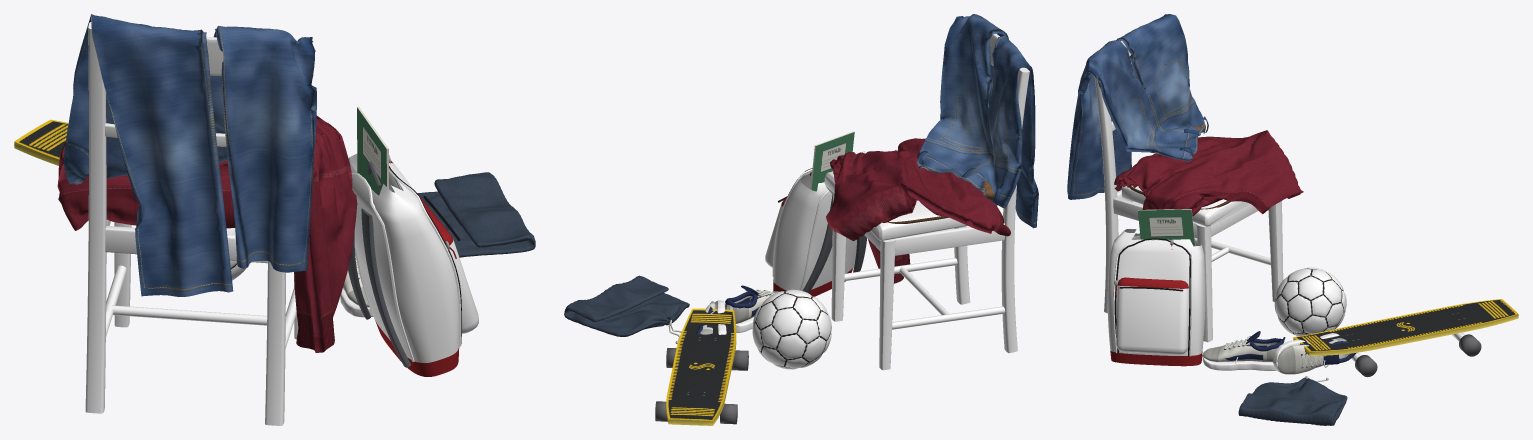
Rendered from room_chair.glb.
3 views of the same model, side by side, from view 1: azimuth 30°, elevation 25°; view 2: azimuth 150°, elevation 25°; view 3: azimuth 270°, elevation 25° (orthographic). The views are drawn at different scales.
Visible parts, largest first — view 1: F64_C3_Jeans, F64_C3_Backpack, F64_C3_Chair, F64_C3_Sweatshirt, F64_C3_ShoeBag, F64_C3_Backpack_Notebook, Skateboard_Tair_Deck, F64_C3_Sneaker_R; view 2: F64_C3_Jeans, F64_C3_Sweatshirt, F64_C3_Chair, F64_C3_Backpack, Skateboard_Tair_Deck, F64_Ball, F64_C3_ShoeBag, F64_C3_Seat, F64_C3_Backpack_Notebook, F64_C3_Sneaker_R, Skateboard_Tair_Wheels, F64_C3_Sneaker_L; view 3: F64_C3_Jeans, F64_C3_Backpack, F64_C3_Sweatshirt, F64_C3_Chair, Skateboard_Tair_Deck, F64_Ball, F64_C3_ShoeBag, F64_C3_Sneaker_R, F64_C3_Sneaker_L, F64_C3_Backpack_Notebook, F64_C3_Seat, Skateboard_Tair_Wheels.
Boxes of the visible parts, bbox=[...] form: F64_C3_Jeans: bbox=[63, 14, 316, 296]; F64_C3_Backpack: bbox=[348, 154, 478, 376]; F64_C3_Chair: bbox=[85, 22, 298, 425]; F64_C3_Sweatshirt: bbox=[57, 115, 357, 352]; F64_C3_ShoeBag: bbox=[417, 172, 535, 257]; F64_C3_Backpack_Notebook: bbox=[357, 106, 388, 195]; Skateboard_Tair_Deck: bbox=[14, 119, 68, 165]; F64_C3_Sneaker_R: bbox=[340, 255, 373, 317]; F64_C3_Jeans: bbox=[917, 14, 1038, 228]; F64_C3_Sweatshirt: bbox=[826, 138, 1010, 283]; F64_C3_Chair: bbox=[831, 33, 1029, 370]; F64_C3_Backpack: bbox=[765, 151, 867, 296]; Skateboard_Tair_Deck: bbox=[666, 308, 736, 425]; F64_Ball: bbox=[752, 289, 831, 369]; F64_C3_ShoeBag: bbox=[564, 275, 689, 336]; F64_C3_Seat: bbox=[824, 171, 967, 240]; F64_C3_Backpack_Notebook: bbox=[810, 131, 854, 191]; F64_C3_Sneaker_R: bbox=[725, 285, 778, 332]; Skateboard_Tair_Wheels: bbox=[655, 348, 748, 424]; F64_C3_Sneaker_L: bbox=[696, 300, 726, 334]; F64_C3_Jeans: bbox=[1067, 14, 1205, 199]; F64_C3_Backpack: bbox=[1107, 229, 1205, 366]; F64_C3_Sweatshirt: bbox=[1114, 130, 1303, 233]; F64_C3_Chair: bbox=[1094, 41, 1283, 342]; Skateboard_Tair_Deck: bbox=[1293, 299, 1518, 355]; F64_Ball: bbox=[1274, 267, 1346, 336]; F64_C3_ShoeBag: bbox=[1238, 377, 1347, 425]; F64_C3_Sneaker_R: bbox=[1202, 331, 1285, 370]; F64_C3_Sneaker_L: bbox=[1273, 333, 1356, 374]; F64_C3_Backpack_Notebook: bbox=[1137, 209, 1195, 246]; F64_C3_Seat: bbox=[1121, 185, 1250, 226]; Skateboard_Tair_Wheels: bbox=[1355, 334, 1481, 377].
Bounding box in the file's own units: 14.13 × 10.09 × 16.14.
Materials: 28 (7 with a texture image).
